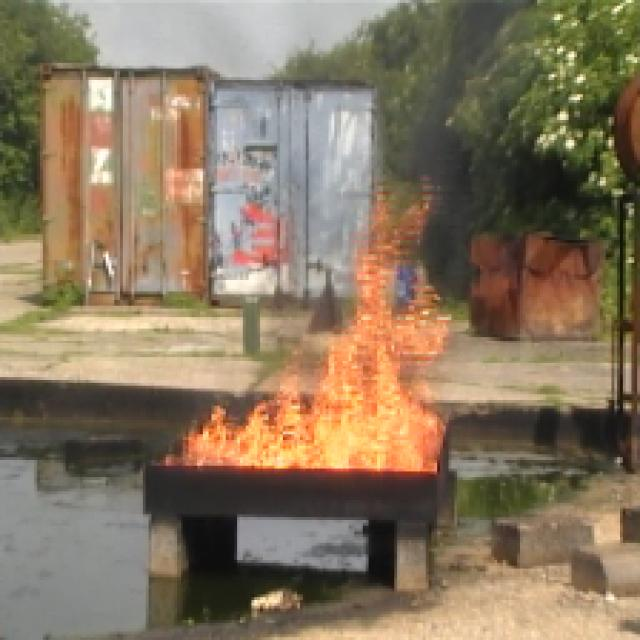fire: (219, 315, 448, 481)
